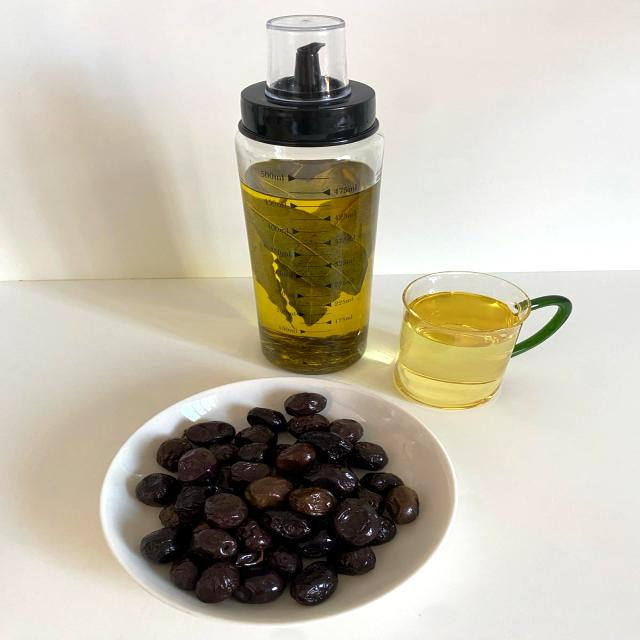olive: (324, 497, 393, 557), (181, 559, 255, 613), (287, 553, 349, 611), (172, 446, 223, 490)
olive oil: (208, 140, 403, 382), (400, 281, 524, 407)
